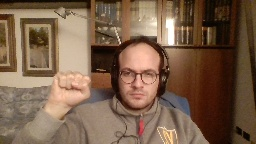Pugno: (47, 68, 93, 109)
